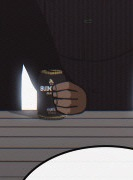beer: (34, 65, 70, 119)
can: (32, 62, 67, 121)
